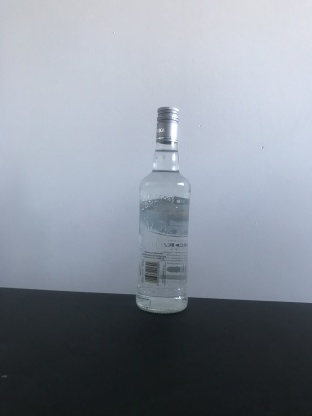nakretka: (154, 105, 180, 144)
